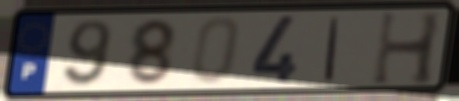0: (187, 14, 244, 88)
4: (249, 13, 304, 87)
8: (126, 16, 182, 88)
9: (59, 17, 114, 89)
H: (369, 8, 446, 89)
I: (321, 15, 344, 83)
